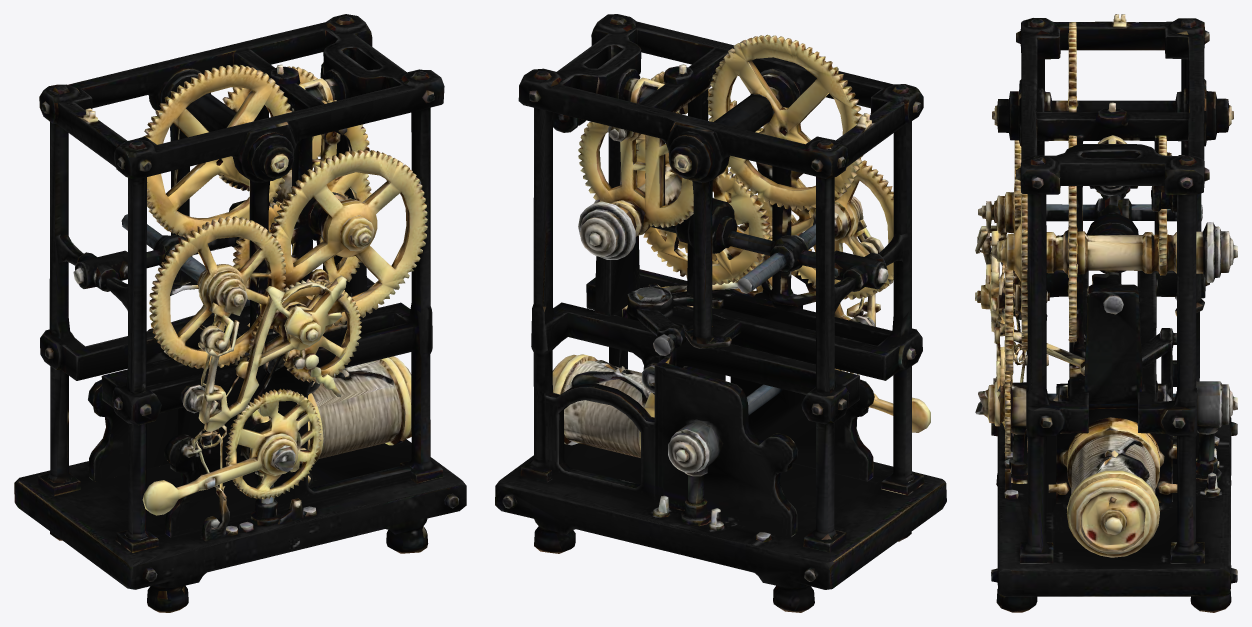
File: tower_movement.glb
The picture shows the model from 3 angles, left to right: view 1: azimuth 30°, elevation 25°; view 2: azimuth 150°, elevation 25°; view 3: azimuth 270°, elevation 25°; orthographic projection.
Visible parts, largest first — view 1: mesh; view 2: mesh; view 3: mesh.
Part boxes in pixels (<box>): mesh: <box>14,14,466,612</box>; mesh: <box>495,14,946,612</box>; mesh: <box>975,14,1237,612</box>.
Size of the model in its own units: 0.715 by 1 by 0.4801.
Materials: 1 (1 with a texture image).
